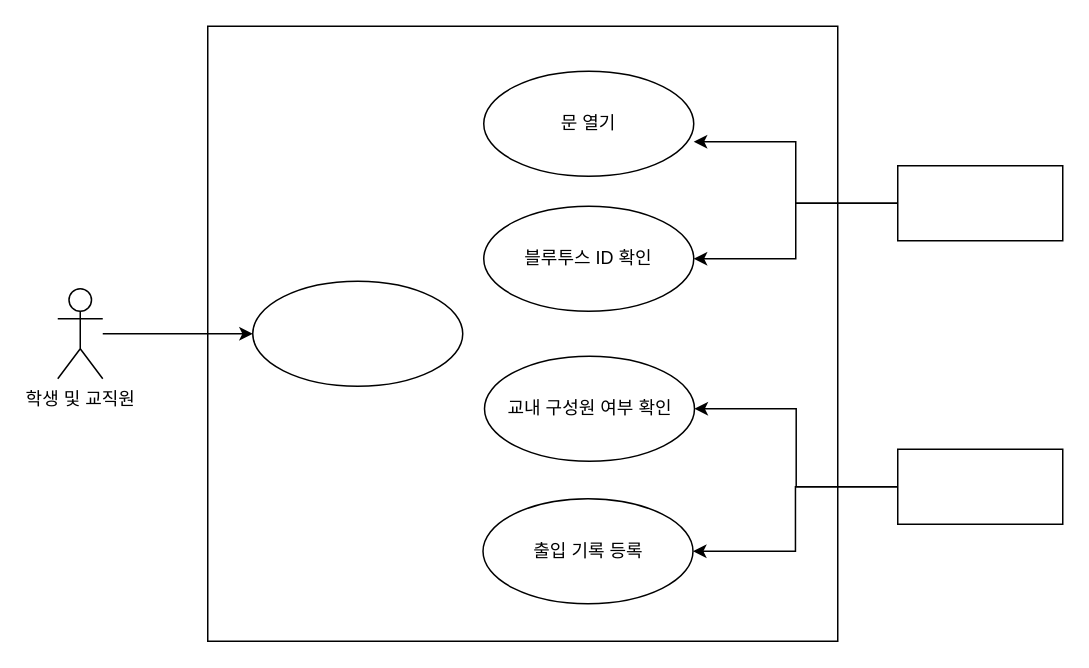
Some shapes in this 1089 by 668 pixel diagram are drawn without their labels. Here are the shapes that lost their labels. From the top down, the box of each, then its label:
(896, 164, 1063, 241): 라즈베리 파이
(251, 280, 463, 386): 블루투스 ID 정보 제공
(896, 448, 1063, 524): DB
